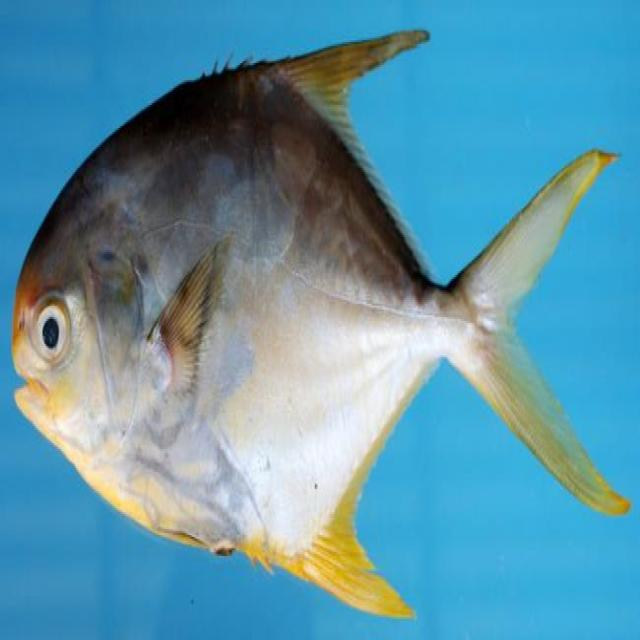ikan: (10, 23, 630, 621)
